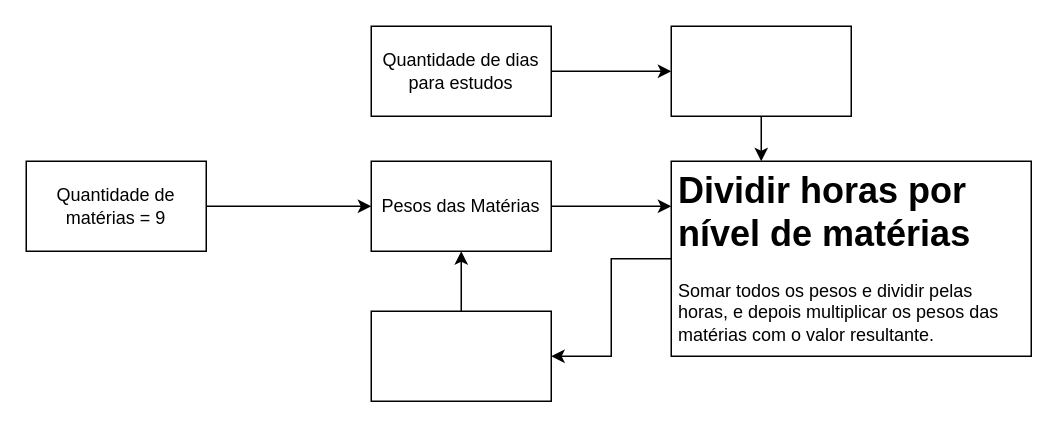
The diagram is 1058 pixels wide and 428 high, and some of its shapes have lost their labels. Here are the shapes that lost their labels. From the top down, the centre of each, then its label:
(760,70): Horas por dia de estudo
(460,355): Se a matéria tiver menos de 80% de aproveitamento, mudar o valor do peso dela
